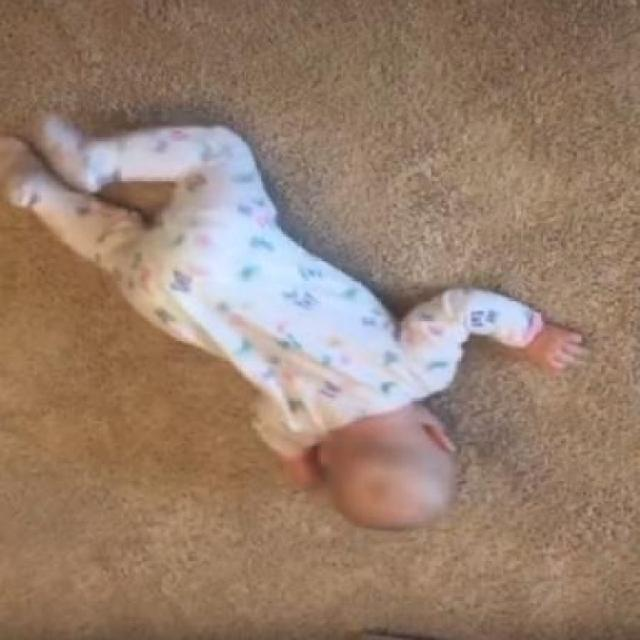child: (0, 119, 583, 533)
